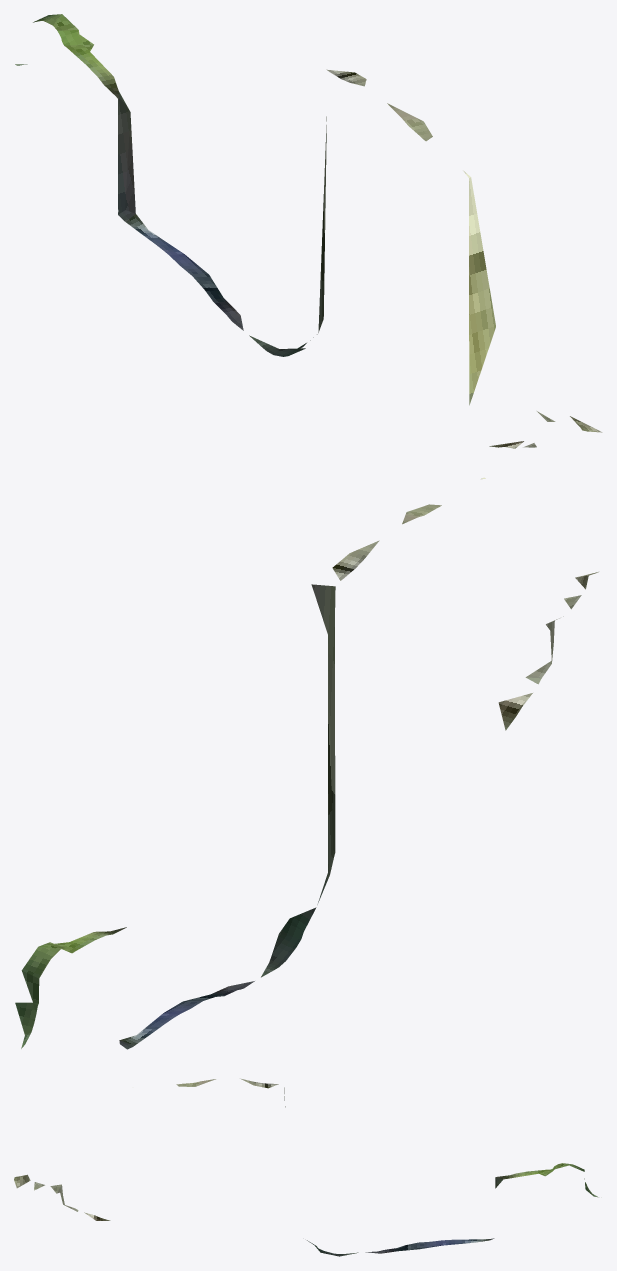
File: Tile_000_003_L14_2441.glb
3 views of the same model, one above another, from view 1: azimuth 30°, elevation 25°; view 2: azimuth 150°, elevation 25°; view 3: azimuth 270°, elevation 25° (orthographic). The views are drawn at different scales.
Visible parts, largest first — view 1: rtc; view 2: rtc; view 3: rtc.
Boxes of the visible parts, box(x1,y1,x2,y2) form: rtc: box(15, 14, 602, 448); rtc: box(15, 477, 598, 1049); rtc: box(14, 1078, 598, 1256).
Bounding box in the file's own units: 1.9 × 18.43 × 55.87.
1 material, 1 textured.
